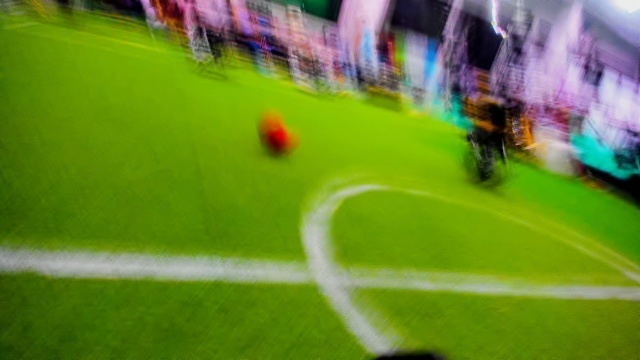x_line: (280, 229, 385, 321)
